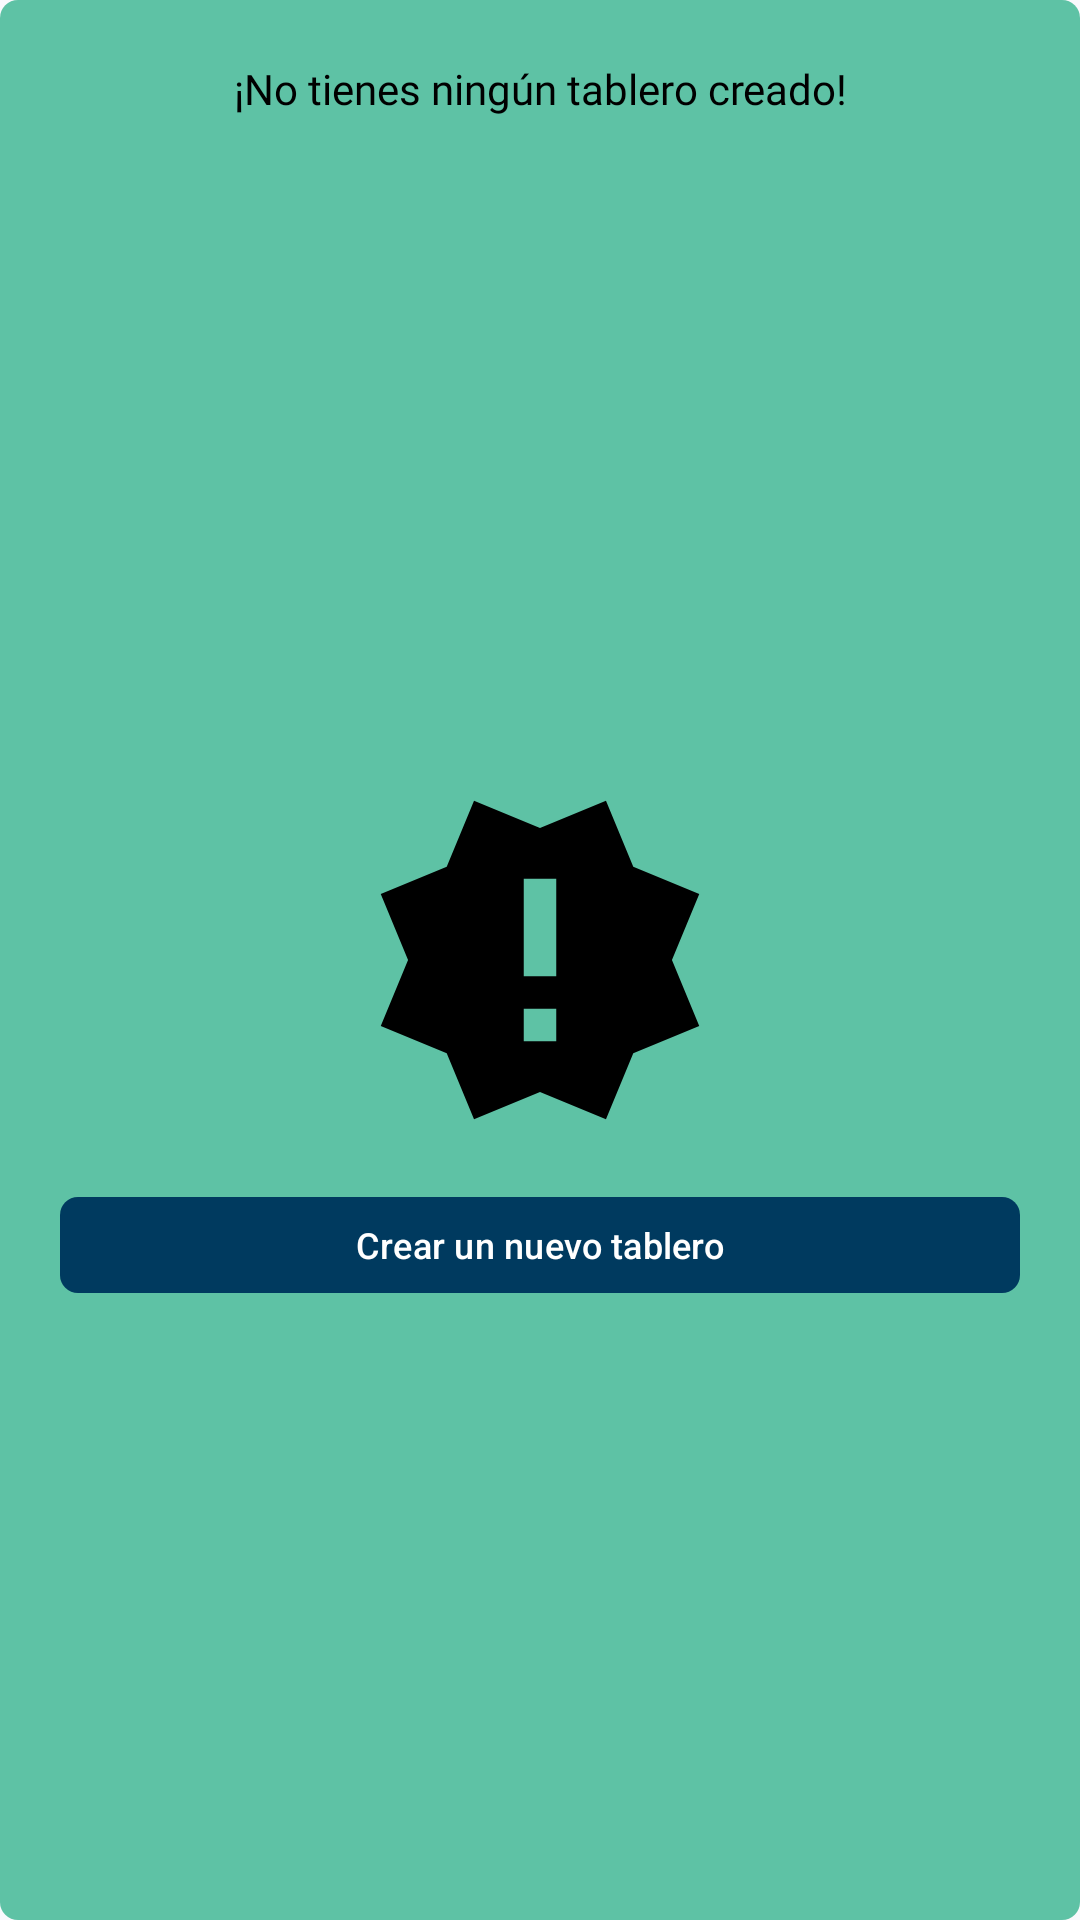

Named icons in this screenshot (1080 × 1920) and their bounding boxes, (x1=x1, y1=y1, x2=x2, y2=y2):
alert octagram: (x1=381, y1=801, x2=699, y2=1119)
